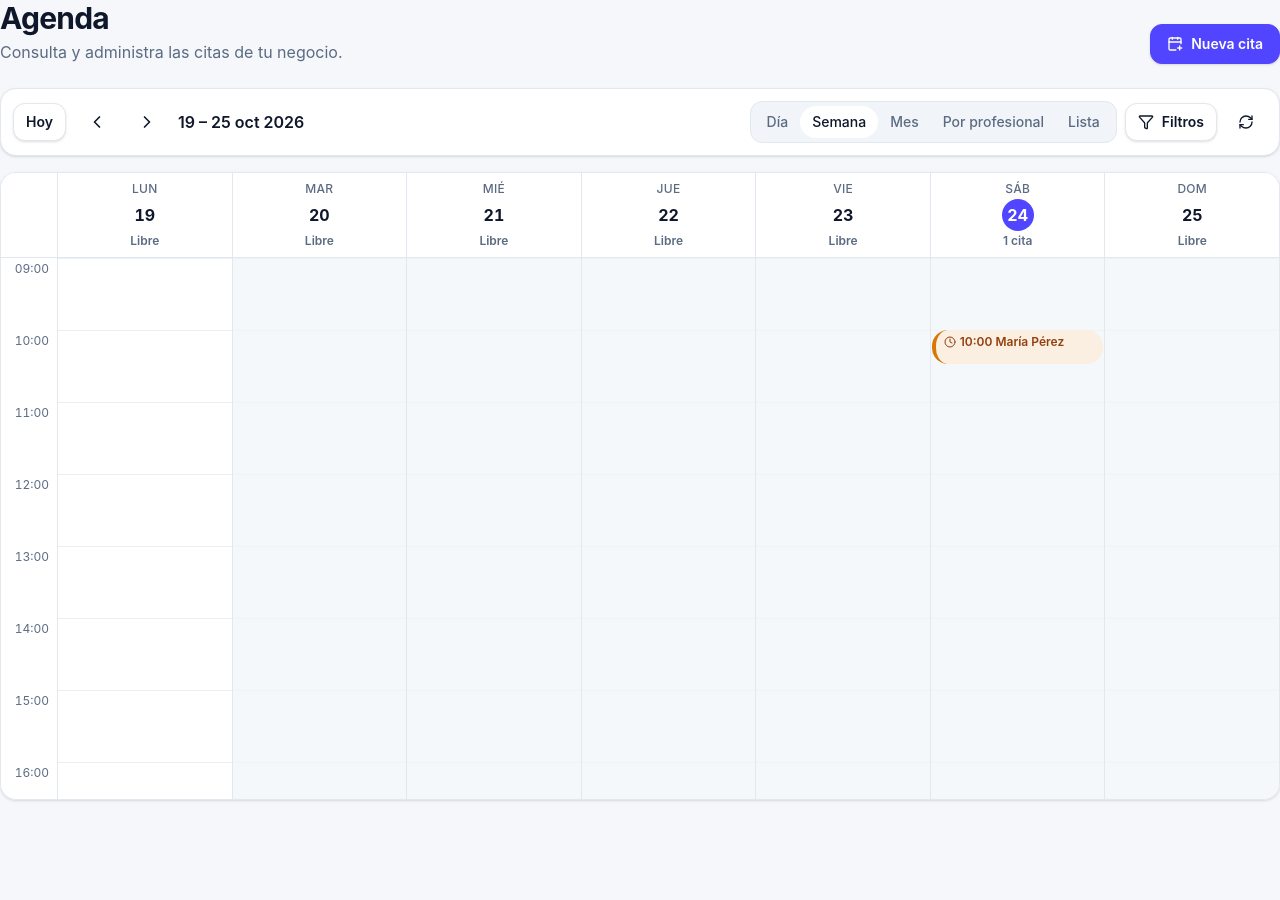
it: CalendarPage (Agenda) › un error del servidor al ejecutar una acción se muestra sin ocultar la cita
(page scrolled)
Click the button "10:00 María Pérez" at [1017, 347], box [932, 330, 1103, 364]
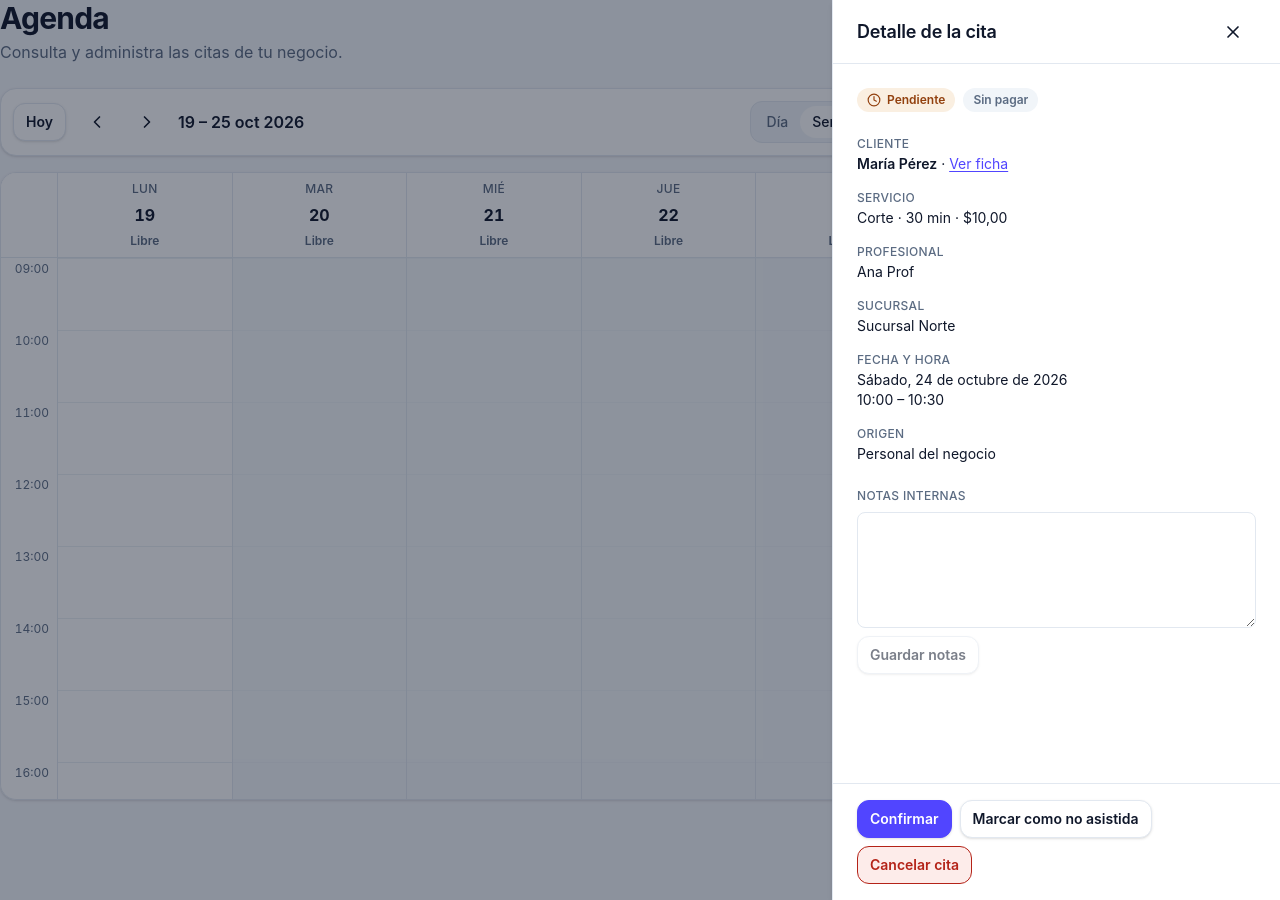
Click the button "Confirmar" at [904, 819], box [857, 800, 952, 838]
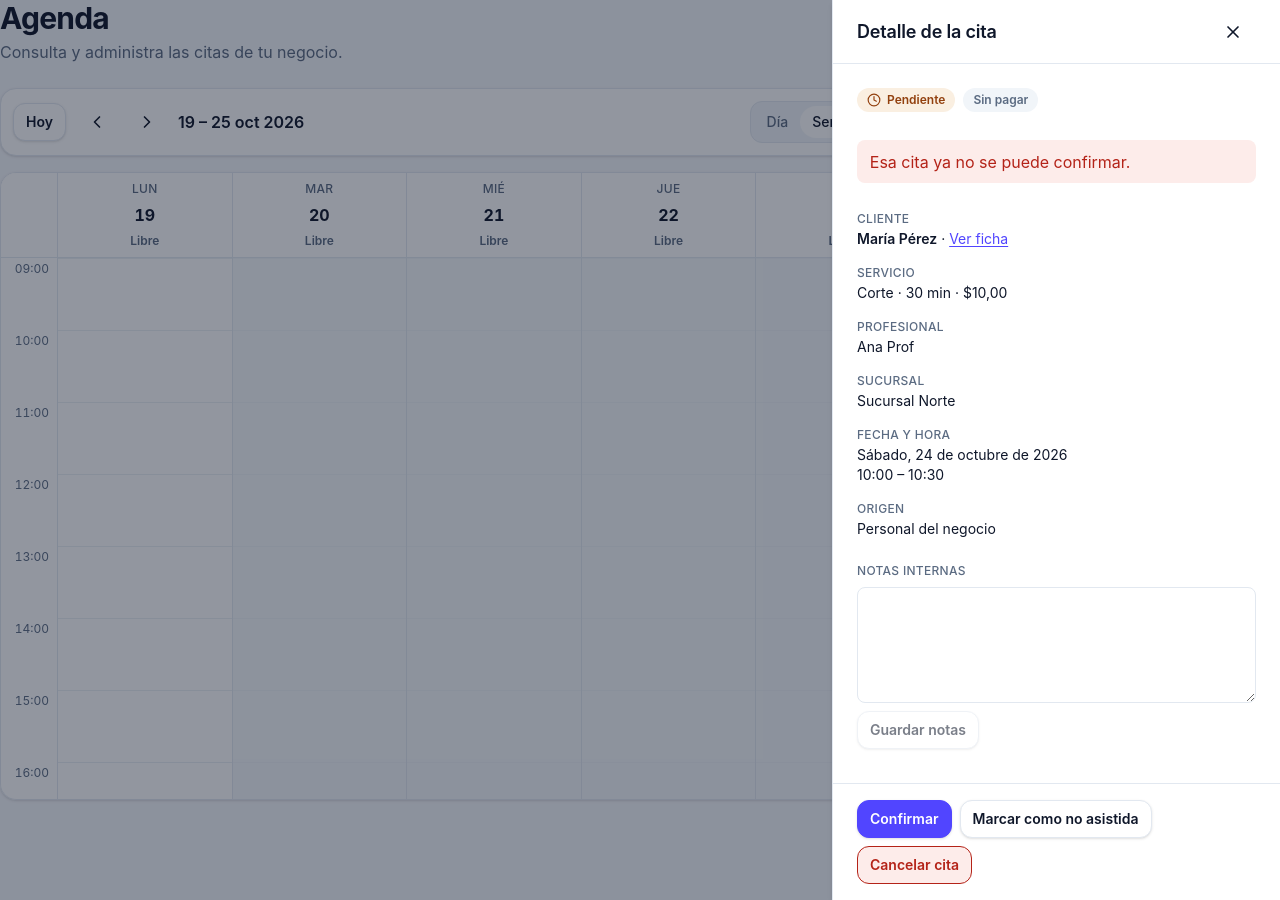
Now the dialog "Detalle de la cita" is shown, box [832, 0, 1279, 899]
Now the text "Esa cita ya no se puede confirmar." is shown, box [857, 140, 1256, 183]
